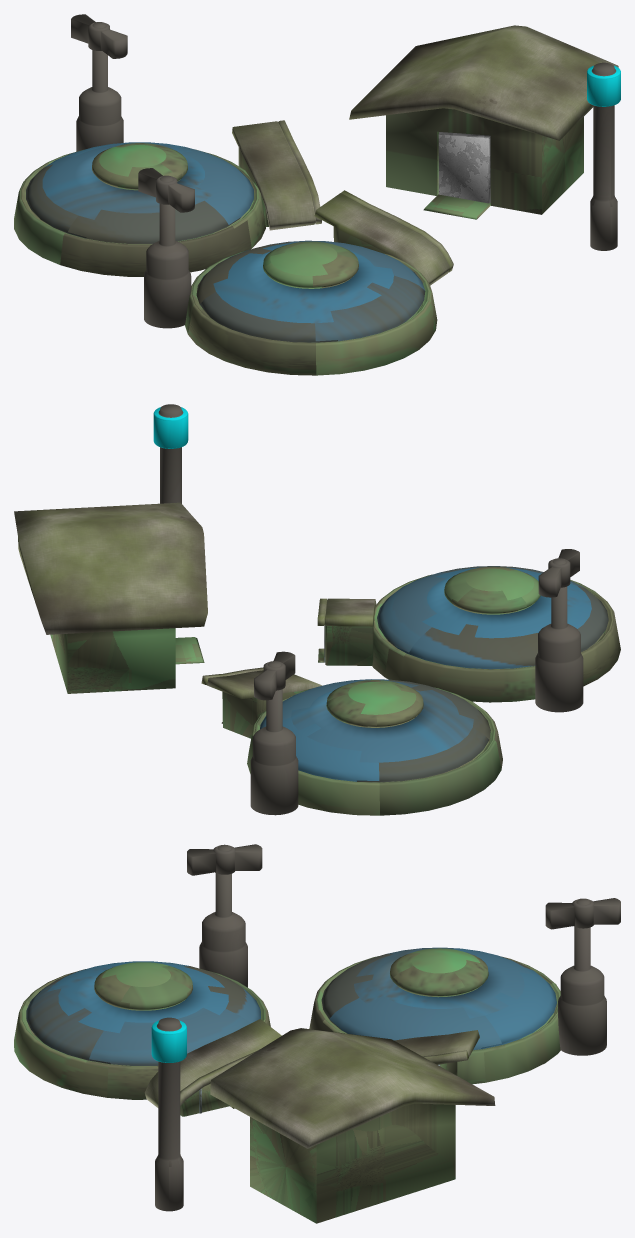
The model's file is farm_03.glb.
The picture shows the model from 3 angles, top to bottom: view 1: azimuth 30°, elevation 25°; view 2: azimuth 150°, elevation 25°; view 3: azimuth 270°, elevation 25°; orthographic projection. The views are drawn at different scales.
Parts seen in each view (by area): view 1: Farm_03; view 2: Farm_03; view 3: Farm_03.
Boxes of the visible parts, x1,y1,x2,y2 form: Farm_03: [14, 14, 620, 375]; Farm_03: [14, 404, 620, 815]; Farm_03: [14, 844, 620, 1223].
Bounding box in the file's own units: 21.8 × 7.04 × 21.13.
7 materials, 6 textured.
